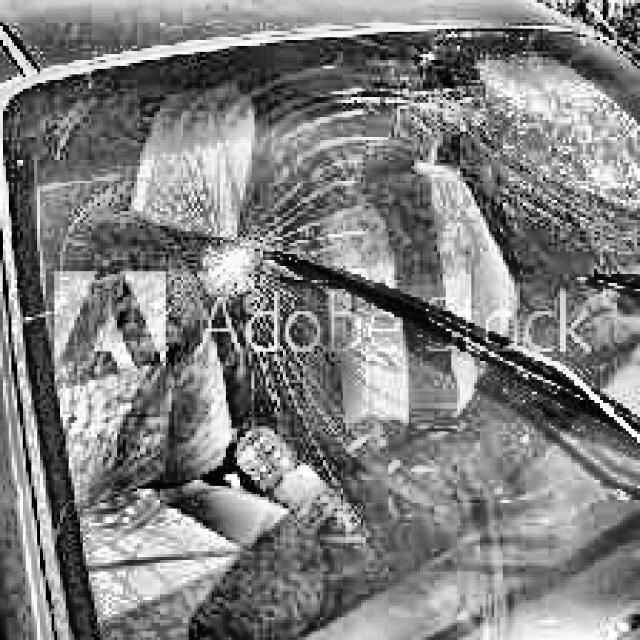glass_shatter: (164, 218, 296, 317)
